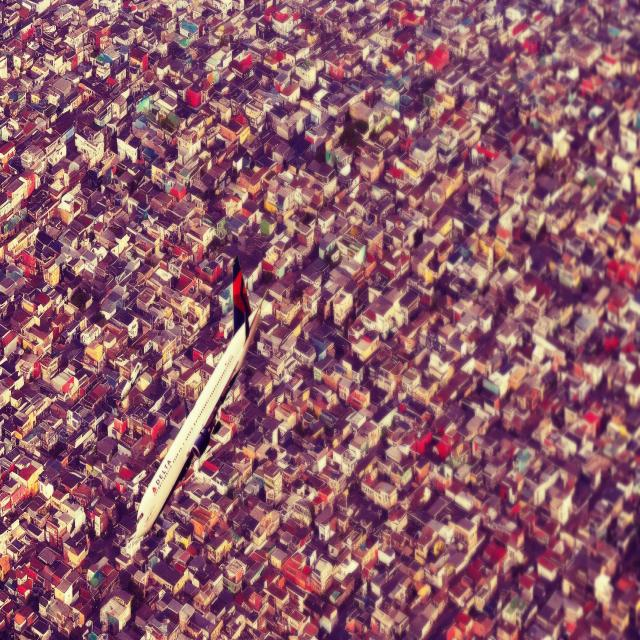airplane: (131, 254, 269, 546)
